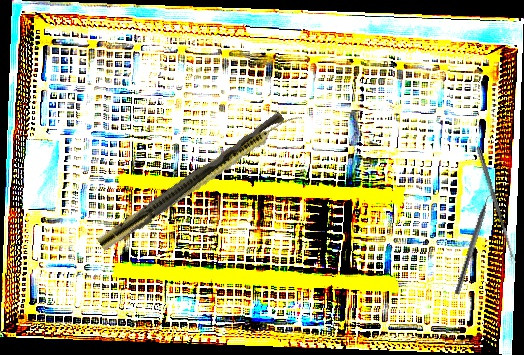Chopper: (454, 187, 499, 297)
Handpiece: (96, 105, 304, 254)
Surgical Spoon: (475, 146, 517, 265)
Tissue Forceps: (111, 104, 286, 247)
